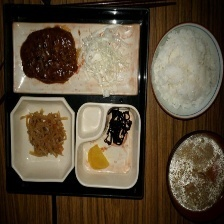rice: (153, 23, 220, 112)
